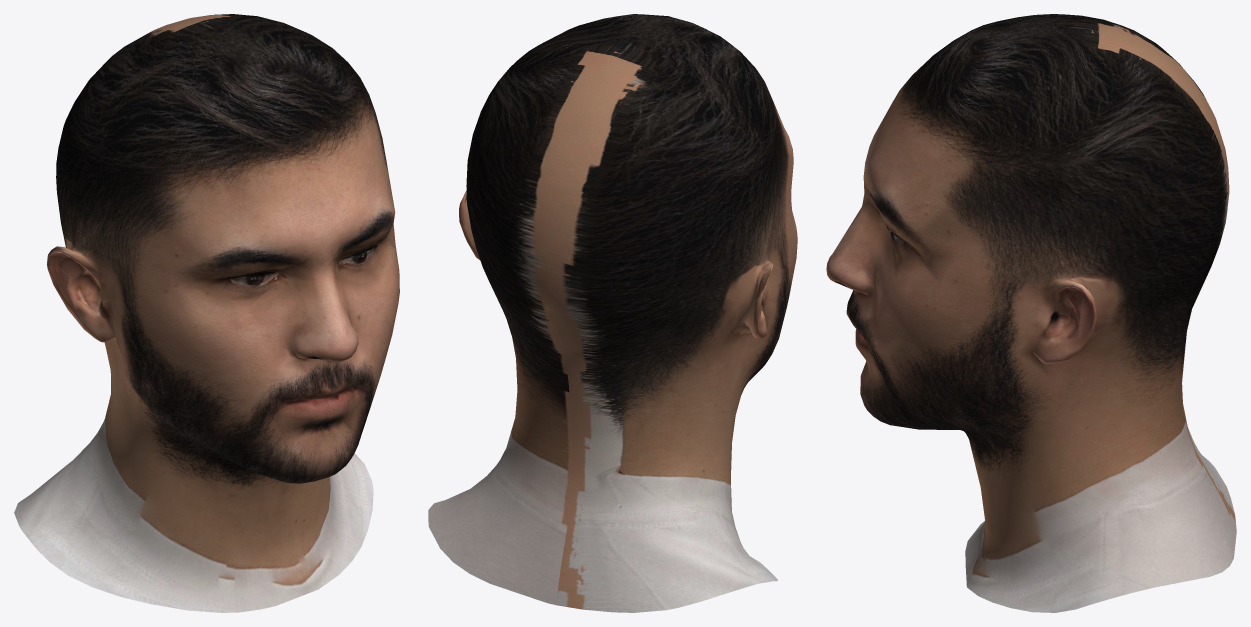
Rendered from mosh.glb.
3 renders of one model, left to right at view 1: azimuth 30°, elevation 25°; view 2: azimuth 150°, elevation 25°; view 3: azimuth 270°, elevation 25°, orthographic.
Parts seen in each view (by area): view 1: FBHead; view 2: FBHead; view 3: FBHead.
Boxes of the visible parts, bbox=[...] form: FBHead: bbox=[14, 14, 399, 612]; FBHead: bbox=[428, 14, 797, 612]; FBHead: bbox=[826, 14, 1236, 612].
Size of the model in its own units: 1.79 by 2.8 by 1.93.
Materials: 1 (1 with a texture image).
